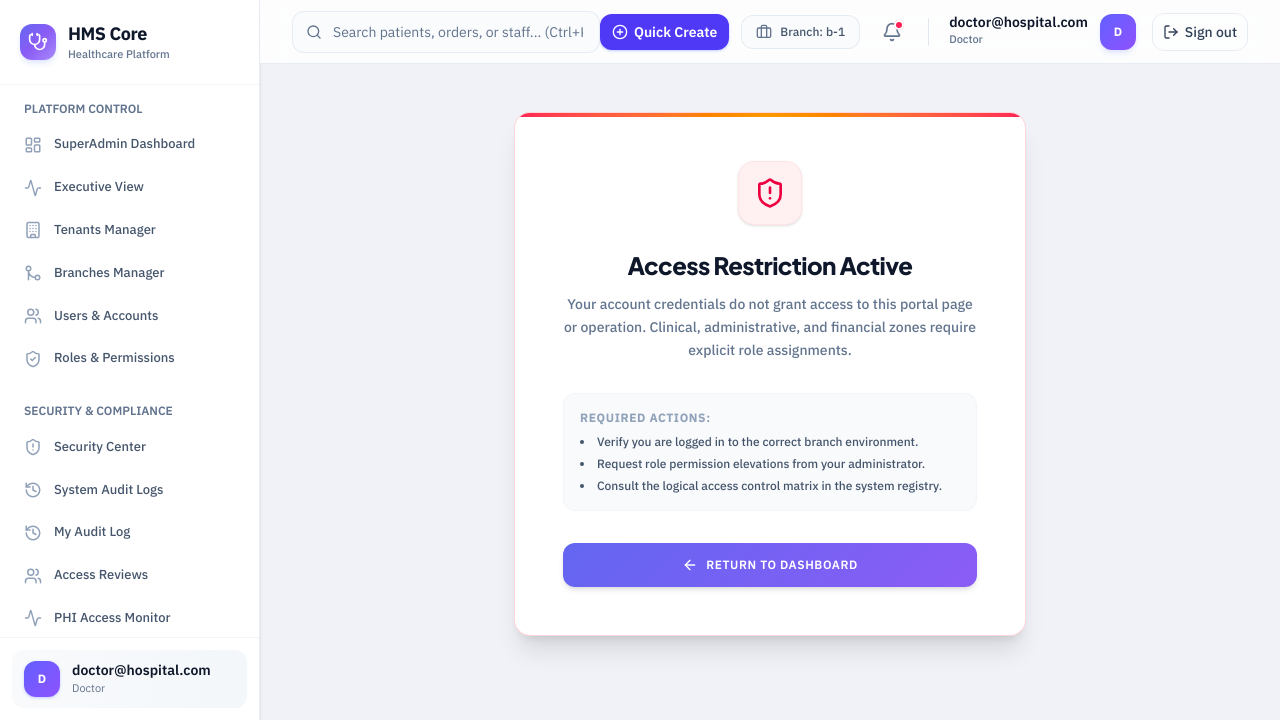
Test: AppShell — Topbar User Control › closes the confirmation bar after confirming
This screenshot has width=1280, height=720.
What coordinates should you click on to do the following:
click the button with test id "logout-button"
I would click on:
 (1200, 32)
Its box is [1152,12,1248,50].
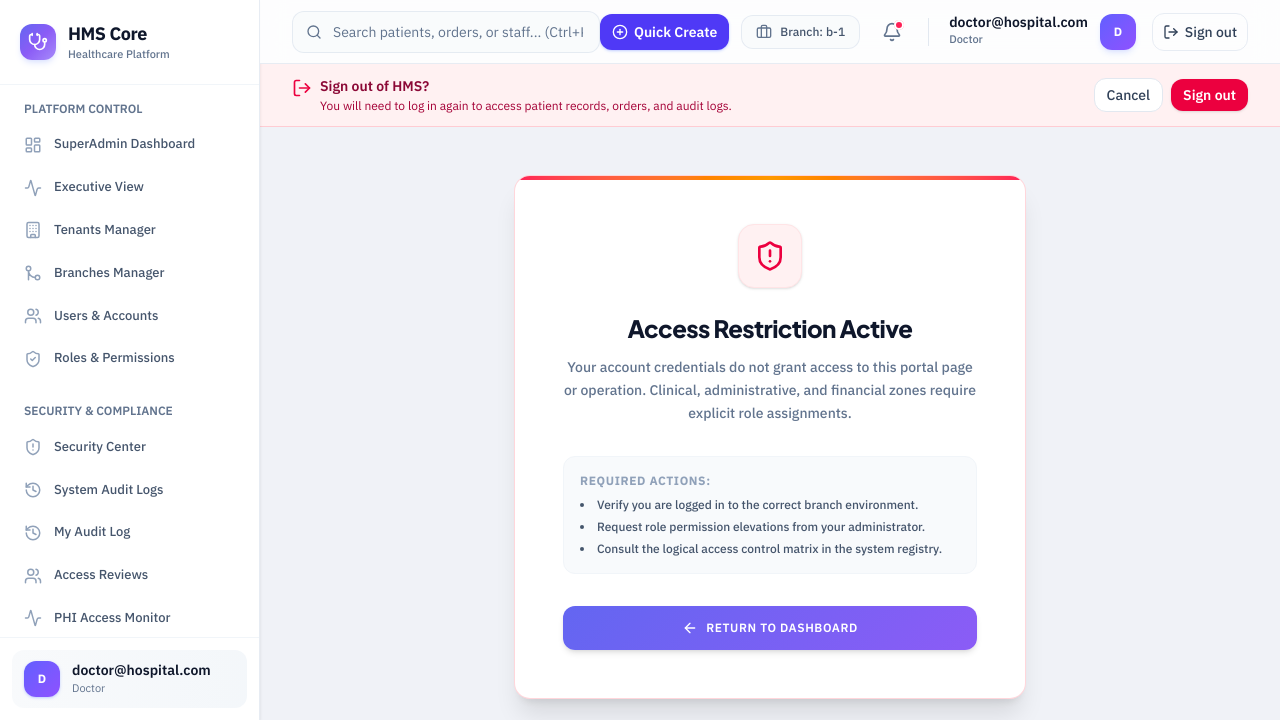
What coordinates should you click on to do the following:
click the button with test id "logout-confirm"
I would click on:
 (1210, 95)
Its box is [1171,79,1248,111].
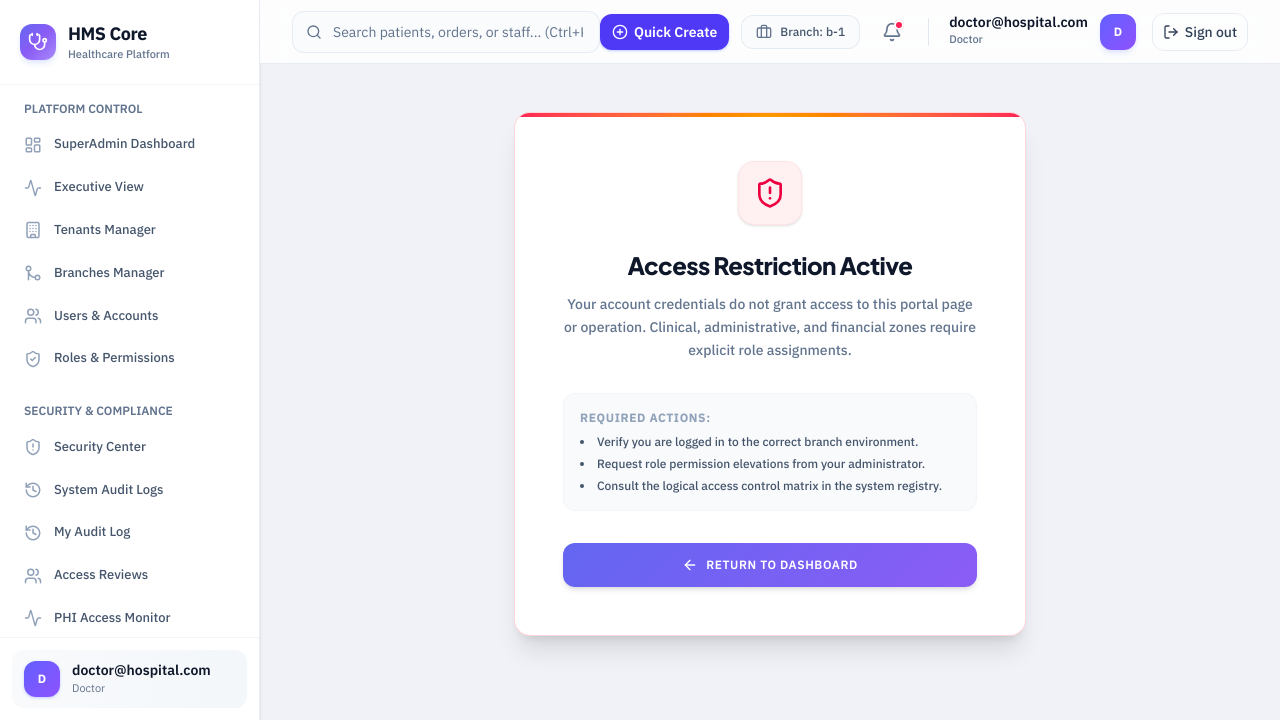
Result: the dialog with test id "logout-confirm-bar" is gone
